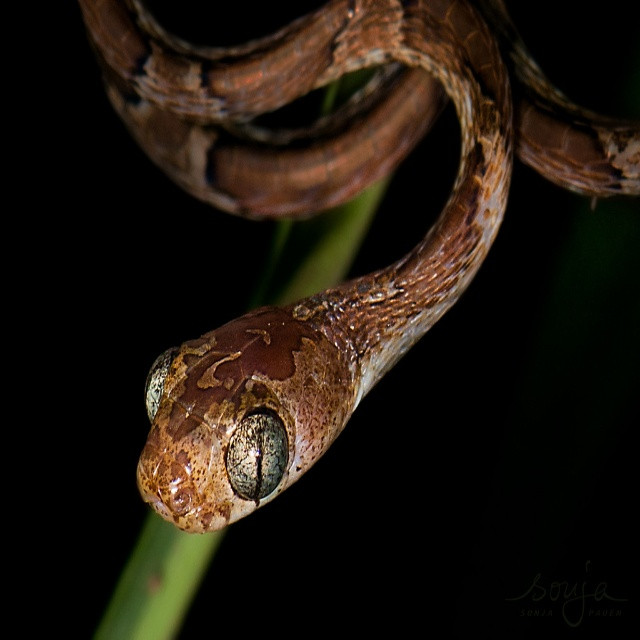Snake: (77, 0, 640, 536)
